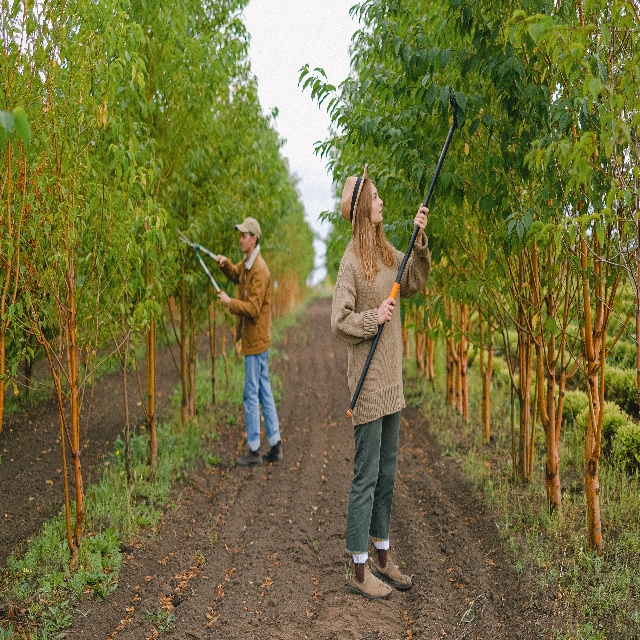Sin_guantes: (413, 201, 429, 236), (376, 297, 396, 325), (217, 289, 231, 309), (216, 254, 227, 268)
